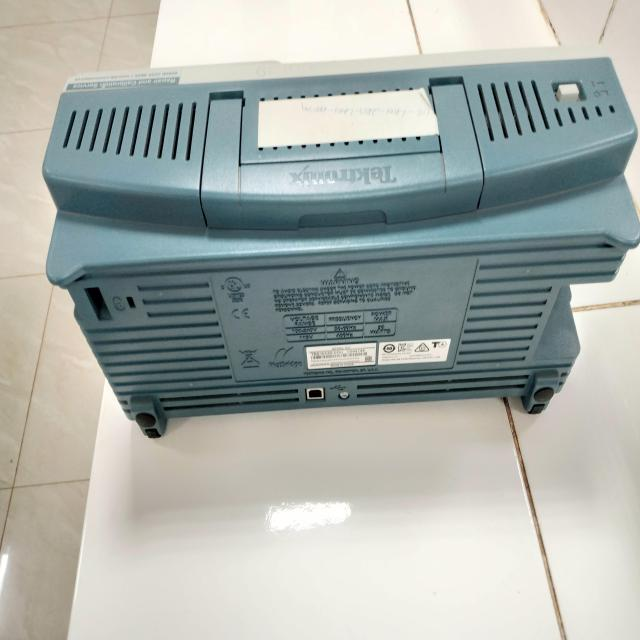Digital Oscilloscope: (36, 32, 637, 444)
